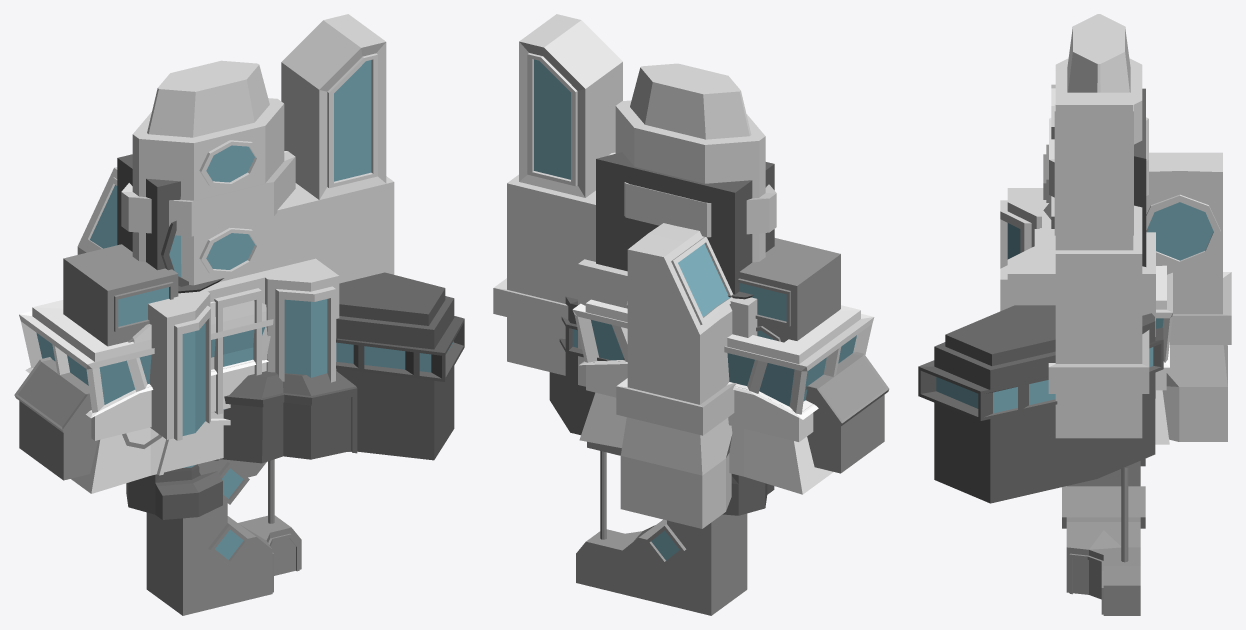
File: BuiildingModels1.fbx
3 renders of one model, left to right at view 1: azimuth 30°, elevation 25°; view 2: azimuth 150°, elevation 25°; view 3: azimuth 270°, elevation 25°, orthographic. The views are drawn at different scales.
Visible parts, largest first — view 1: h7, h5, h6, h1, h333, h7.001, h2, h6.001, h5.001, w1, h4.001, h4 (+1 smaller); view 2: h7, h4, h6, h1, h333, h5, h7.001, h6.001, h4.001, h2, w1; view 3: h7, h5, h4, h333, h4.001, h6, h5.001, h7.001.
Part boxes in pixels (bbox=[...]): h7: bbox=[121, 14, 394, 440]; h5: bbox=[117, 154, 464, 463]; h6: bbox=[19, 300, 273, 493]; h1: bbox=[14, 244, 178, 480]; h333: bbox=[146, 459, 301, 615]; h7.001: bbox=[182, 60, 371, 435]; h2: bbox=[126, 278, 223, 519]; h6.001: bbox=[36, 327, 265, 404]; h5.001: bbox=[169, 235, 453, 372]; w1: bbox=[118, 287, 168, 326]; h4.001: bbox=[90, 185, 117, 248]; h4: bbox=[77, 167, 117, 254]; h7: bbox=[493, 14, 776, 386]; h4: bbox=[616, 223, 736, 528]; h6: bbox=[572, 299, 874, 494]; h1: bbox=[737, 238, 889, 473]; h333: bbox=[576, 441, 747, 615]; h5: bbox=[549, 152, 774, 435]; h7.001: bbox=[534, 59, 570, 179]; h6.001: bbox=[591, 320, 856, 406]; h4.001: bbox=[678, 243, 729, 316]; h2: bbox=[722, 291, 774, 515]; w1: bbox=[739, 283, 786, 340]; h7: bbox=[1000, 14, 1155, 438]; h5: bbox=[918, 88, 1163, 503]; h4: bbox=[1146, 152, 1231, 441]; h333: bbox=[1062, 458, 1145, 615]; h4.001: bbox=[1147, 202, 1213, 260]; h6: bbox=[1039, 228, 1172, 444]; h5.001: bbox=[936, 347, 1153, 413]; h7.001: bbox=[1007, 223, 1020, 259].
Bounding box in the file's own units: 8507 × 11582 × 6075.
